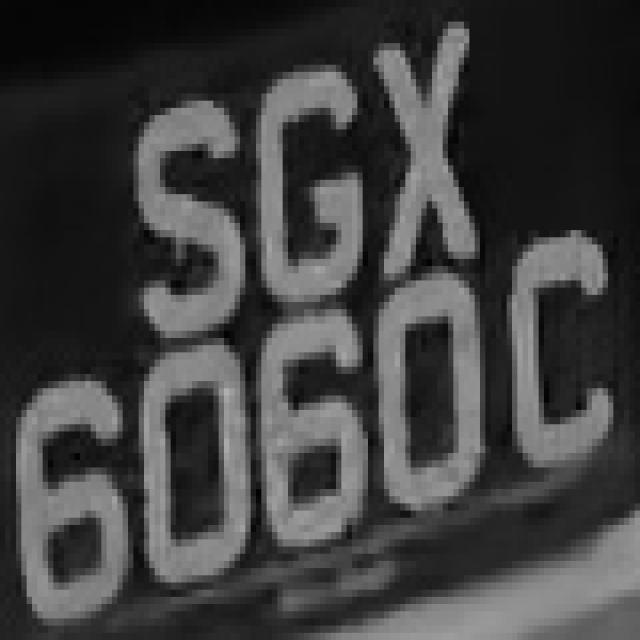0: (128, 323, 251, 597), (368, 259, 485, 503)
6: (5, 345, 134, 619), (245, 288, 368, 568)
C: (501, 230, 624, 482)
G: (234, 36, 378, 309)
S: (112, 72, 245, 352)
X: (358, 14, 470, 266)
